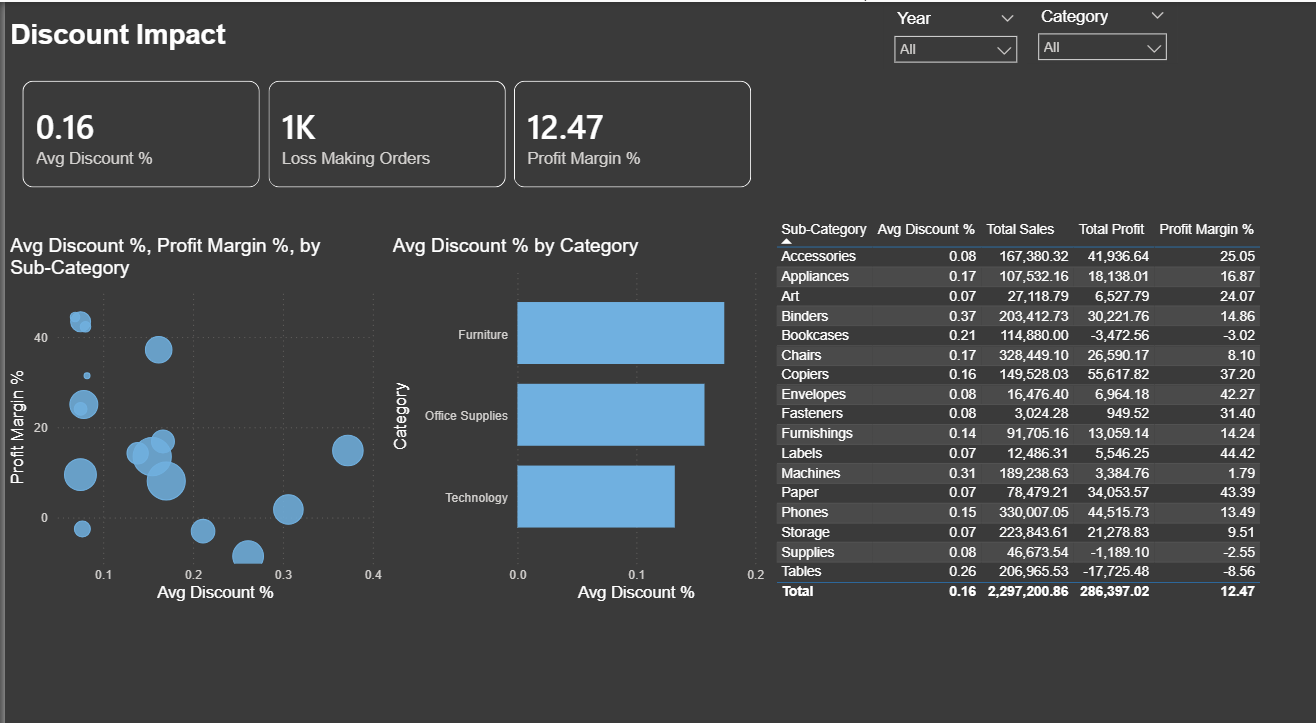

Layout of this report page (visuals, bound fields, positions):
{"tool":"powerbi","page":{"name":"Discount Impact","canvas":[1280,720],"ordinal":4},"visuals":[{"type":"scatterChart","title":"Avg Discount %, Profit Margin %, by Sub-Category","fields":{"X":["Sample - Superstore.Avg Discount %"],"Y":["Sample - Superstore.Profit Margin %"],"Size":["Sample - Superstore.Total Sales"],"Category":["Dim_Products.Sub-Category"]},"box":[0,224.4,369.2,359.5],"z":0},{"type":"clusteredBarChart","fields":{"Category":["Dim_Products.Category"],"Y":["Sample - Superstore.Avg Discount %"]},"box":[369.2,224.4,369.2,359.5],"z":1000},{"type":"cardVisual","fields":{"Data":["Sample - Superstore.Avg Discount %","Sample - Superstore.Loss Making Orders","Sample - Superstore.Profit Margin %"]},"box":[0,59.1,738.3,137.5],"z":2000},{"type":"tableEx","fields":{"Values":["Dim_Products.Sub-Category","Sample - Superstore.Avg Discount %","Sample - Superstore.Total Sales","Sample - Superstore.Total Profit","Sample - Superstore.Profit Margin %"]},"box":[738.3,205.1,483.8,378.8],"z":3000},{"type":"slicer","fields":{"Values":["Dim_Date.Year"]},"box":[848.1,2.4,138.7,61.5],"z":4000},{"type":"slicer","fields":{"Values":["Dim_Products.Category"]},"box":[986.9,0,144.8,59.1],"z":5000},{"type":"textbox","box":[0,12.1,226.8,43.4],"z":5001}]}

Visuals, with their boxes in screenshot pixels (x1, y1, x2, y2), scaled from the page's 1280x720 canvas onto the 1316x723 screenshot:
"Avg Discount %, Profit Margin %, by Sub-Category" scatterChart: <bbox>0, 225, 380, 586</bbox>
clusteredBarChart - Dim_Products.Category x Sample - Superstore.Avg Discount %: <bbox>380, 225, 759, 586</bbox>
cardVisual - Sample - Superstore.Avg Discount % x Sample - Superstore.Loss Making Orders: <bbox>0, 59, 759, 197</bbox>
tableEx - Dim_Products.Sub-Category x Sample - Superstore.Avg Discount %: <bbox>759, 206, 1256, 586</bbox>
slicer - Dim_Date.Year: <bbox>872, 2, 1015, 64</bbox>
slicer - Dim_Products.Category: <bbox>1015, 0, 1164, 59</bbox>
textbox: <bbox>0, 12, 233, 56</bbox>
